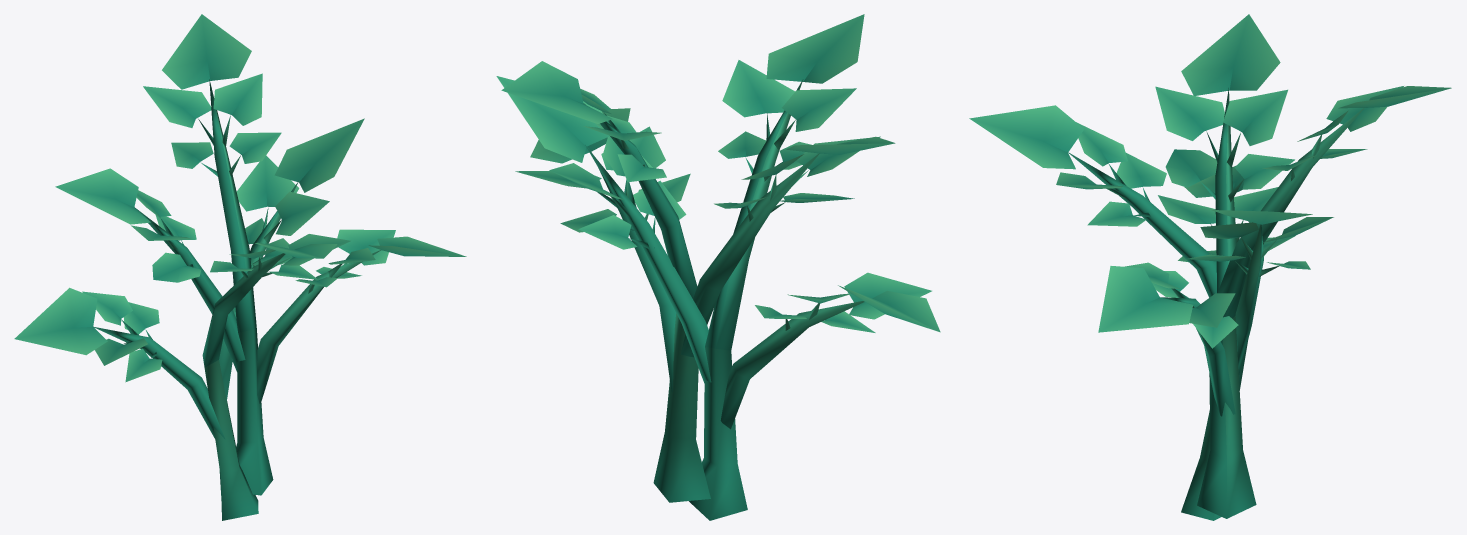
File: PotatoSprout02.glb
The picture shows the model from 3 angles, left to right: view 1: azimuth 30°, elevation 25°; view 2: azimuth 150°, elevation 25°; view 3: azimuth 270°, elevation 25°; orthographic projection. The views are drawn at different scales.
Visible parts, largest first — view 1: PotatoSprout02; view 2: PotatoSprout02; view 3: PotatoSprout02.
Boxes of the visible parts, x1,y1,x2,y2 form: PotatoSprout02: (14, 14, 466, 520); PotatoSprout02: (496, 14, 940, 520); PotatoSprout02: (969, 14, 1451, 520).
Bounding box in the file's own units: 1.29 × 1.29 × 1.21.
1 material, 1 textured.
